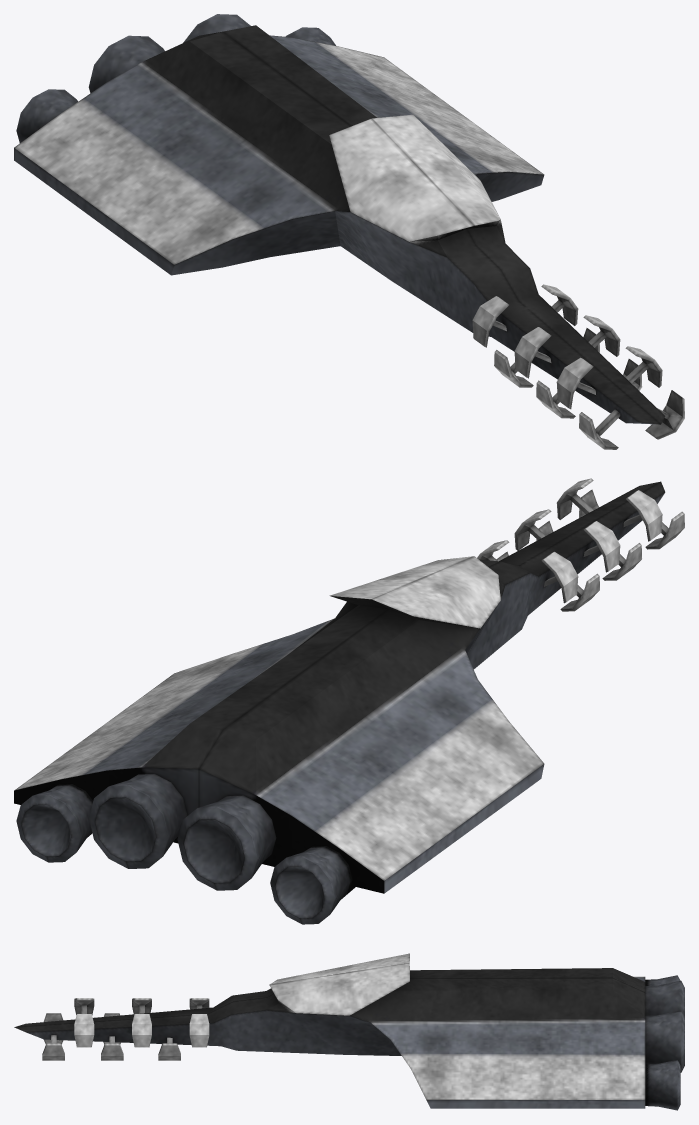
File: Repubblica_3.fbx
3 views of the same model, one above another, from view 1: azimuth 30°, elevation 25°; view 2: azimuth 150°, elevation 25°; view 3: azimuth 270°, elevation 25° (orthographic). The views are drawn at different scales.
Visible parts, largest first — view 1: Texture, Colore1; view 2: Texture, Colore1; view 3: Texture, Colore1.
Boxes of the visible parts, x1,y1,x2,y2 form: Texture: (14, 14, 665, 424); Colore1: (14, 37, 684, 449); Texture: (14, 481, 665, 924); Colore1: (14, 478, 684, 880); Texture: (14, 968, 684, 1110); Colore1: (42, 953, 645, 1099).
Size of the model in its own units: 3.51 by 1.37 by 8.07.
Materials: 2 (2 with a texture image).
